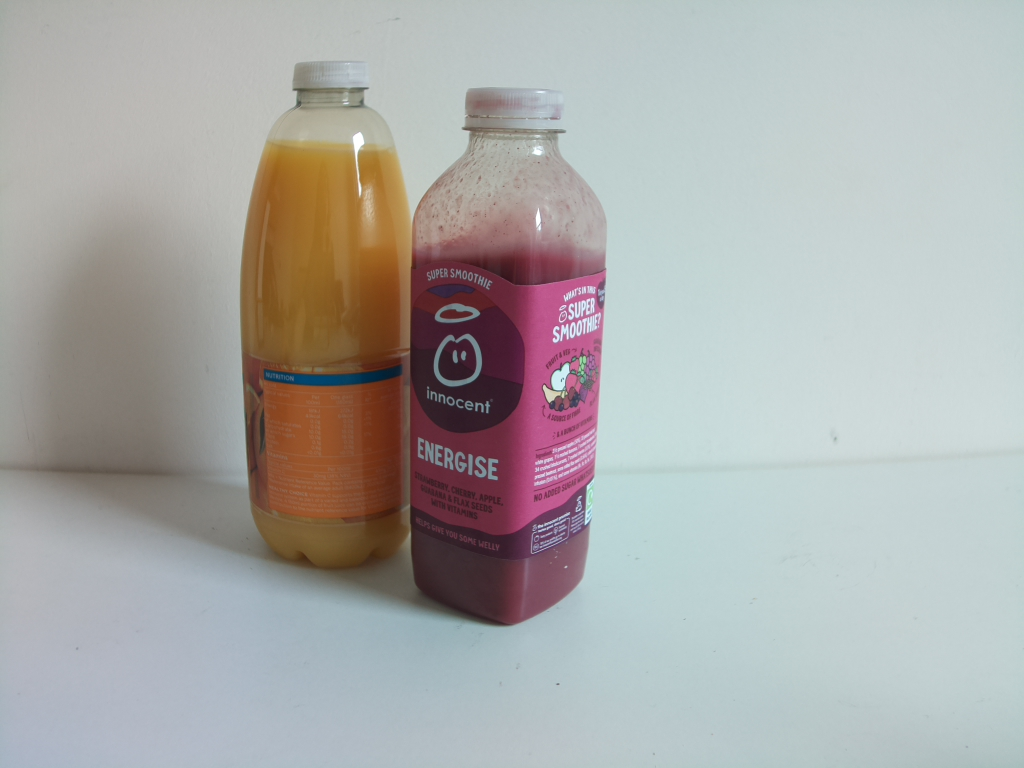juice: (405, 82, 596, 628), (236, 54, 426, 570)
